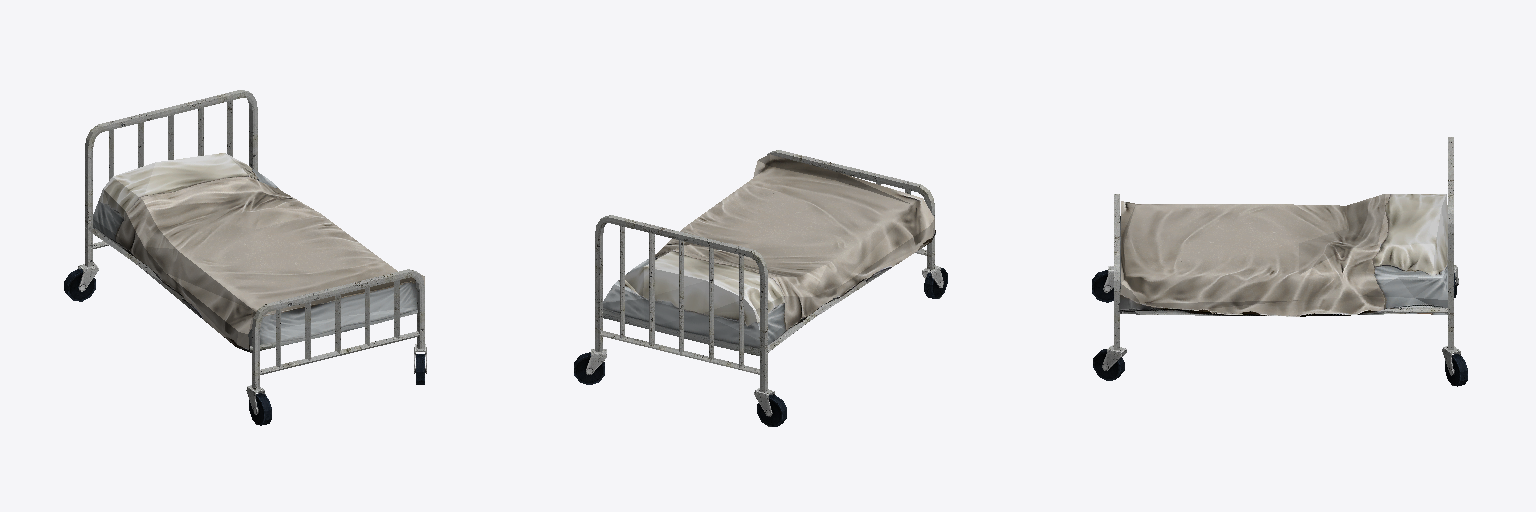
The picture shows the model from 3 angles: view 1: azimuth 30°, elevation 25°; view 2: azimuth 150°, elevation 25°; view 3: azimuth 270°, elevation 25°; orthographic projection.
Parts seen in each view (by area): view 1: Hospital_Bed; view 2: Hospital_Bed; view 3: Hospital_Bed.
Part boxes in pixels (x1,y1,x2,y2): Hospital_Bed: (64, 90, 426, 425); Hospital_Bed: (574, 150, 947, 426); Hospital_Bed: (1092, 137, 1467, 386).
Size of the model in its own units: 265 by 207 by 416.
1 materials, 1 textured.